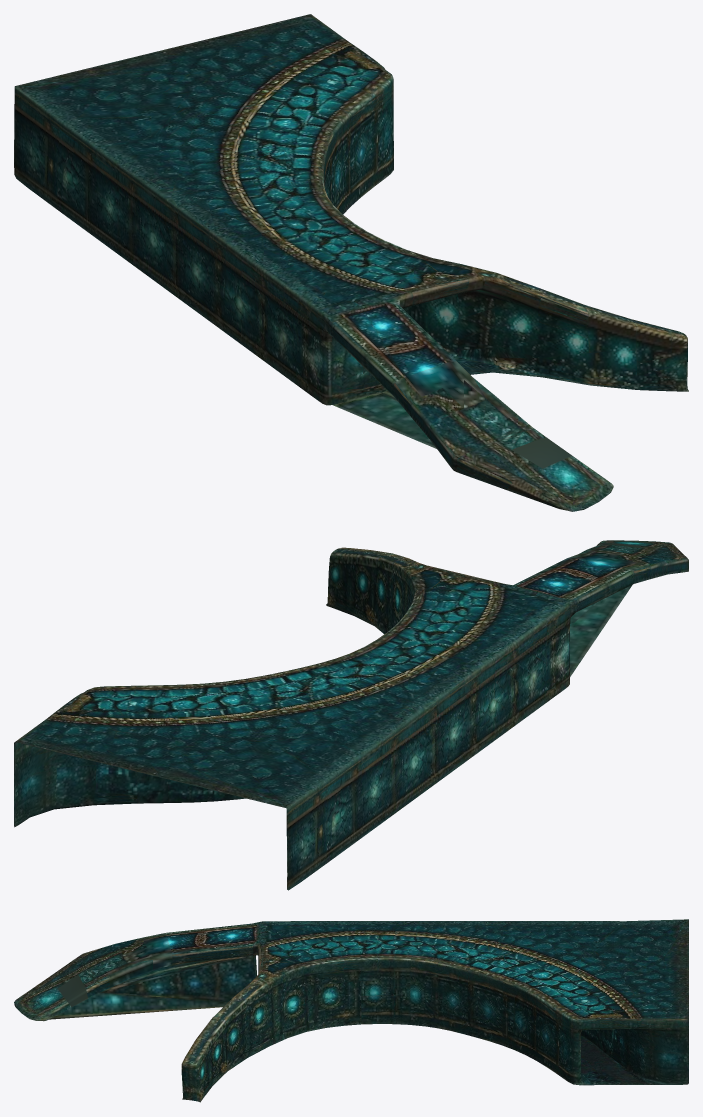
The model's file is etage_lvl_2.glb.
3 renders of one model, top to bottom at view 1: azimuth 30°, elevation 25°; view 2: azimuth 150°, elevation 25°; view 3: azimuth 270°, elevation 25°, orthographic. The views are drawn at different scales.
Visible parts, largest first — view 1: Mesh_0.002; view 2: Mesh_0.002; view 3: Mesh_0.002.
Boxes of the visible parts, x1=… form: Mesh_0.002: x1=14, y1=14, x2=688, y2=511; Mesh_0.002: x1=14, y1=540, x2=688, y2=890; Mesh_0.002: x1=14, y1=919, x2=688, y2=1102.
Size of the model in its own units: 0.36 by 0.1255 by 0.9778.
Materials: 1 (1 with a texture image).
